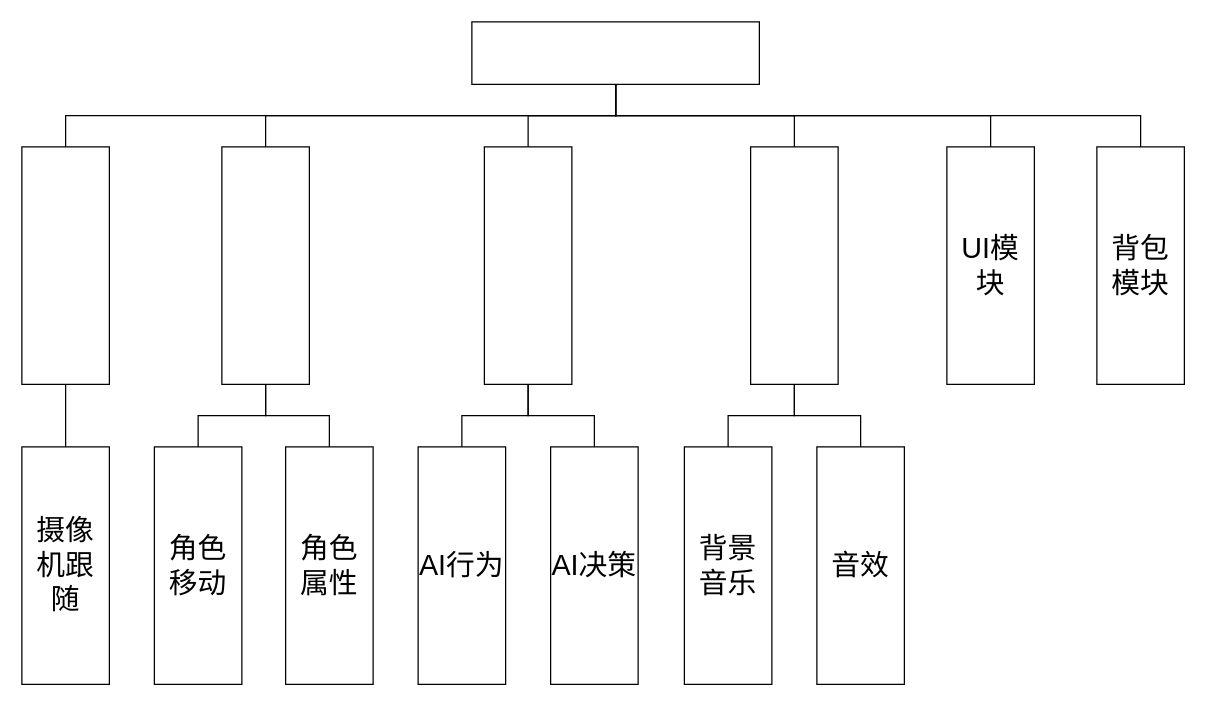
Image size: 1206x706. Some labels were removed from this diagram. The centre of each missing label's shape, as x and y in pixels:
AI模块: point (527, 265)
RogueLike游戏: point (615, 52)
声音模块: point (793, 265)
摄像机模块: point (65, 265)
角色模块: point (265, 265)
